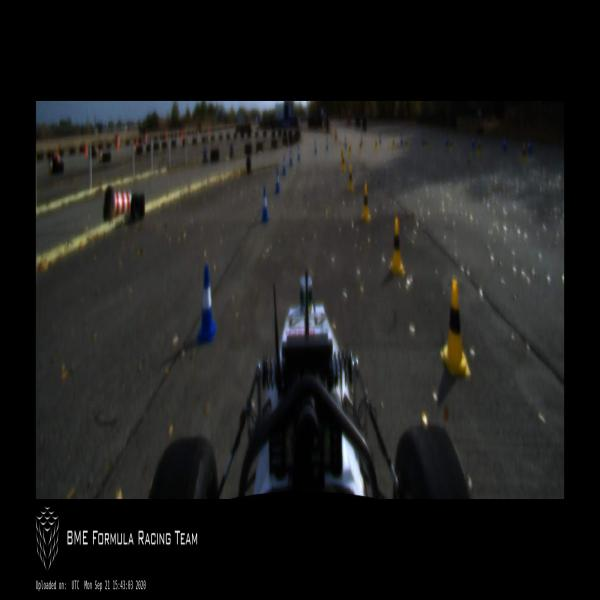blue_cone: (198, 265, 216, 341), (261, 188, 269, 221), (276, 169, 280, 194), (503, 136, 507, 152), (283, 156, 286, 174), (446, 134, 449, 149), (297, 146, 300, 160), (400, 132, 403, 146), (472, 134, 475, 148), (422, 134, 425, 147), (528, 141, 531, 154), (314, 141, 317, 153), (326, 138, 329, 150), (344, 135, 347, 147), (290, 150, 292, 165), (361, 133, 363, 146), (379, 134, 381, 144)
unknown_cone: (335, 128, 337, 140)
yellow_cone: (441, 280, 471, 379), (390, 218, 406, 274), (361, 184, 371, 222), (347, 165, 355, 191), (522, 143, 526, 164), (340, 147, 344, 165), (342, 154, 346, 170), (374, 136, 378, 152), (359, 138, 362, 154), (405, 136, 408, 152), (478, 141, 481, 157), (392, 136, 395, 151), (450, 139, 453, 153), (425, 138, 428, 151), (349, 143, 351, 157)
